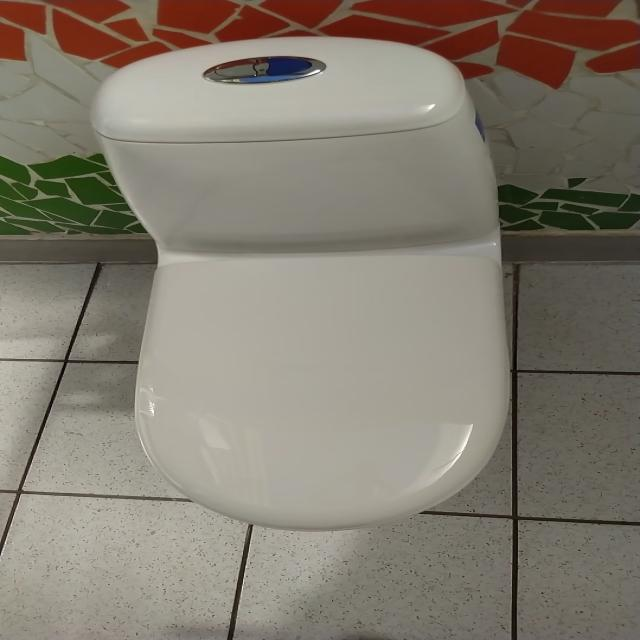toilet: (88, 36, 510, 532)
